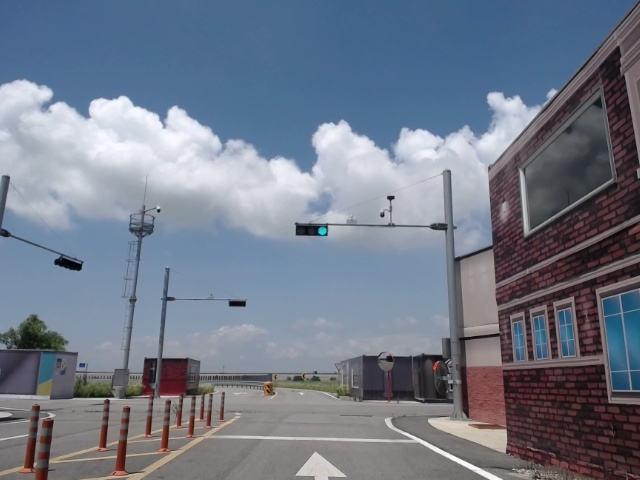green_3: (297, 225, 327, 236)
